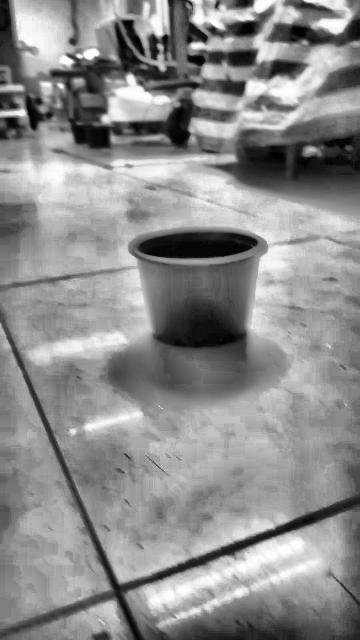pot: (130, 229, 264, 348)
